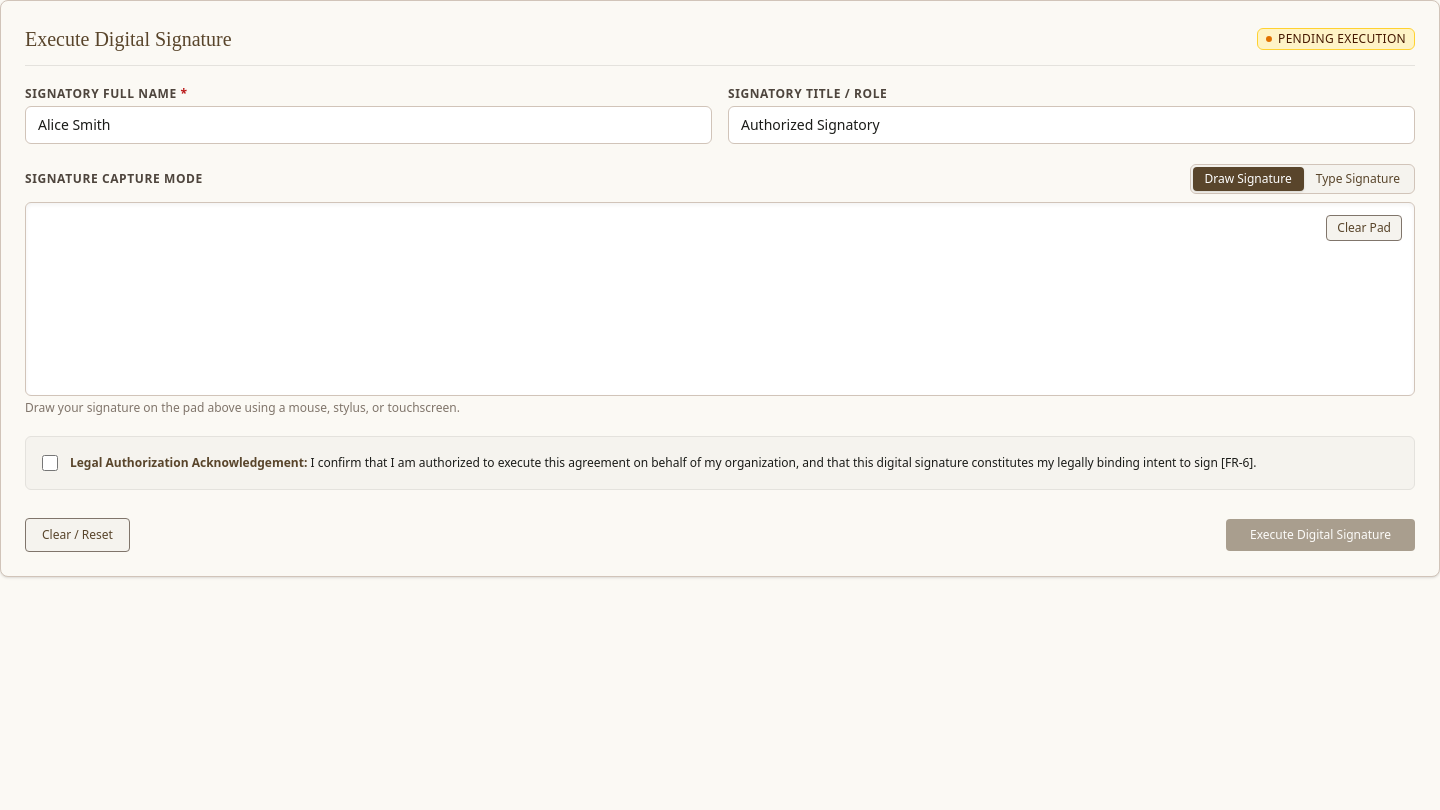
Test: SignaturePad Component [FR-6] › switches to typed signature mode and updates preview
The image size is (1440, 810).
# Switch to Type mode
Click the tab "Type Signature" at (1358, 179), box 1304,167 -> 1412,191
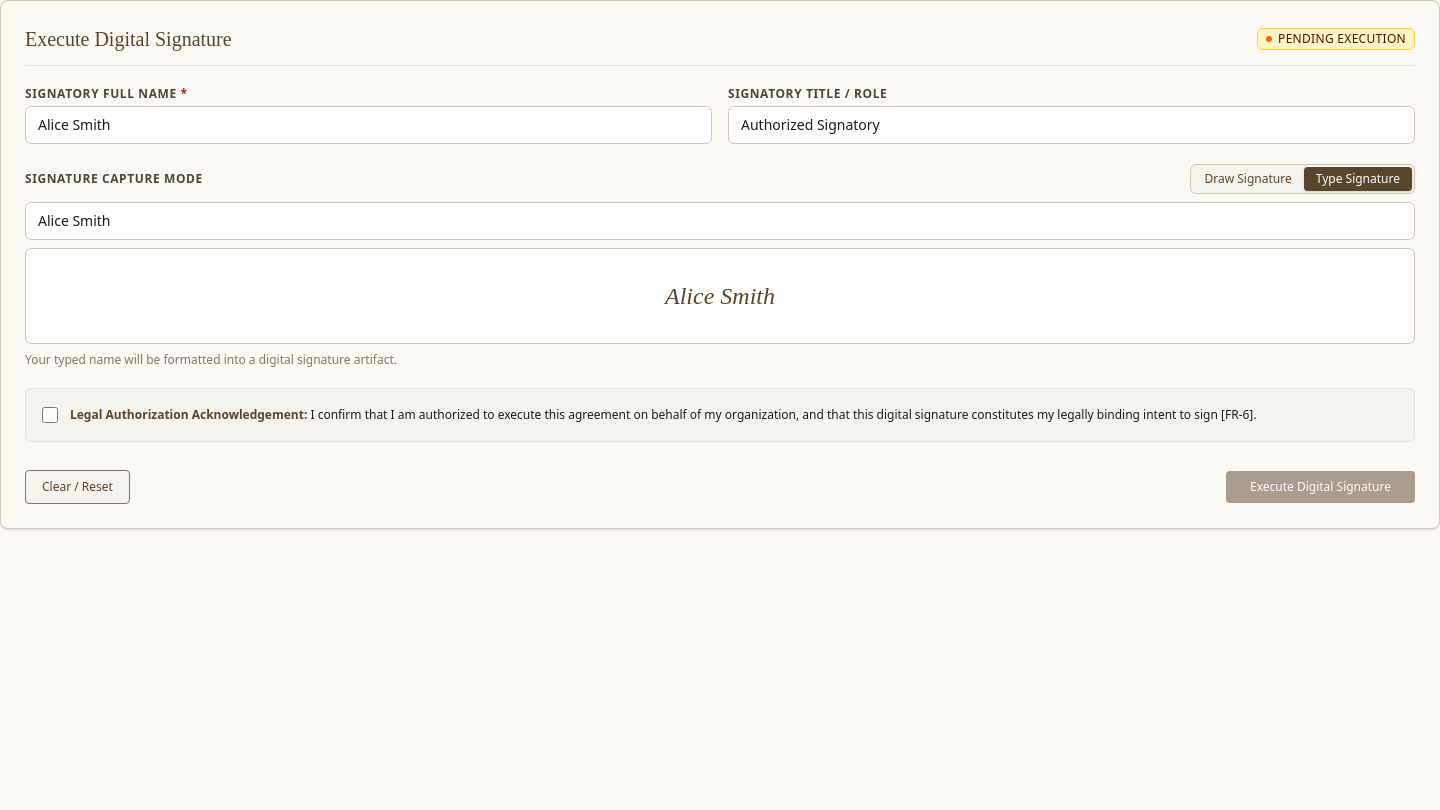
expect the field with placeholder "Type your full legal signature..." is shown: met
# Type signature text
Replace the text in the field with placeholder "Type your full legal signature..." with "Alice Smith, CEO" at (720, 221), box 25,202 -> 1415,240
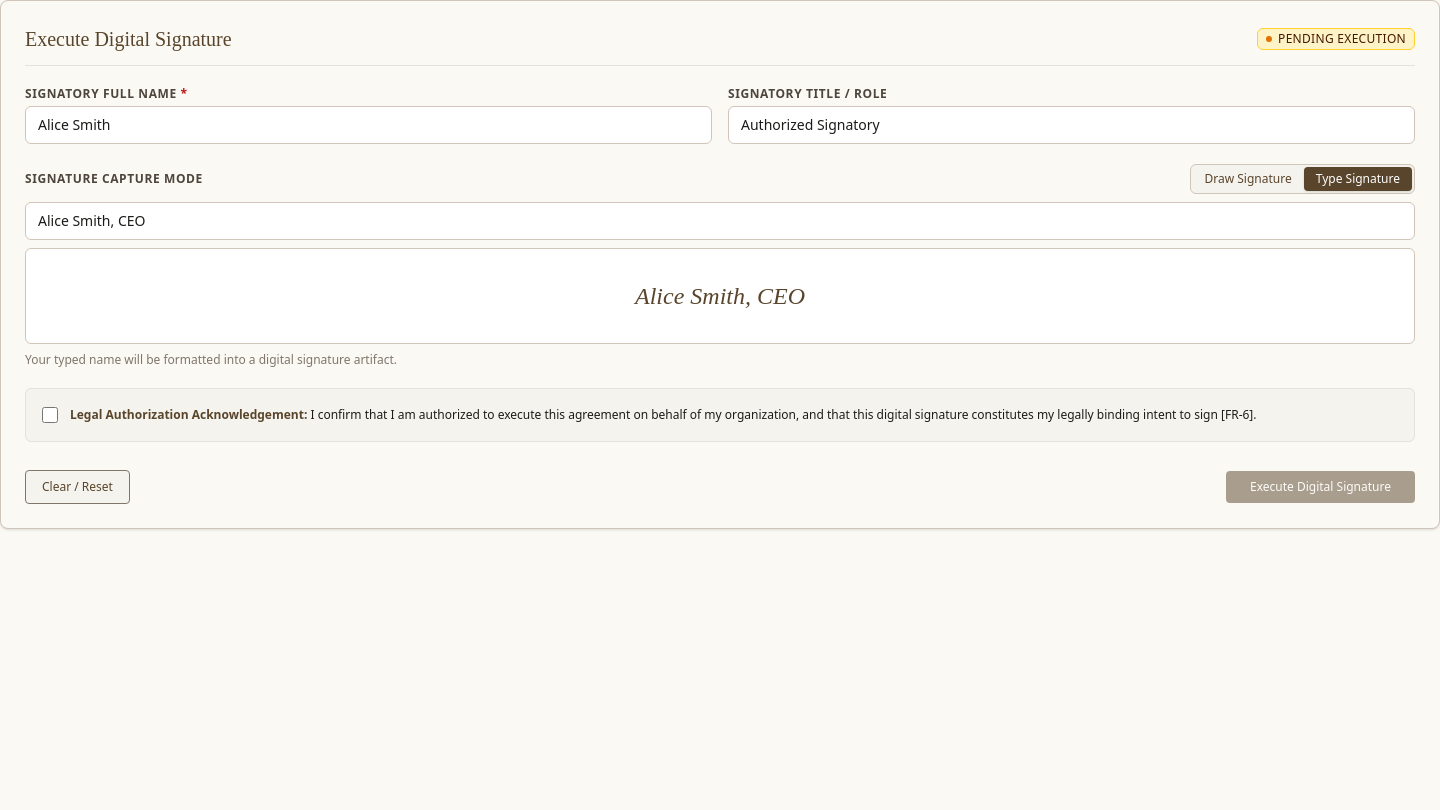
expect the text "Alice Smith, CEO" is shown: met, box 635,280 -> 805,312
